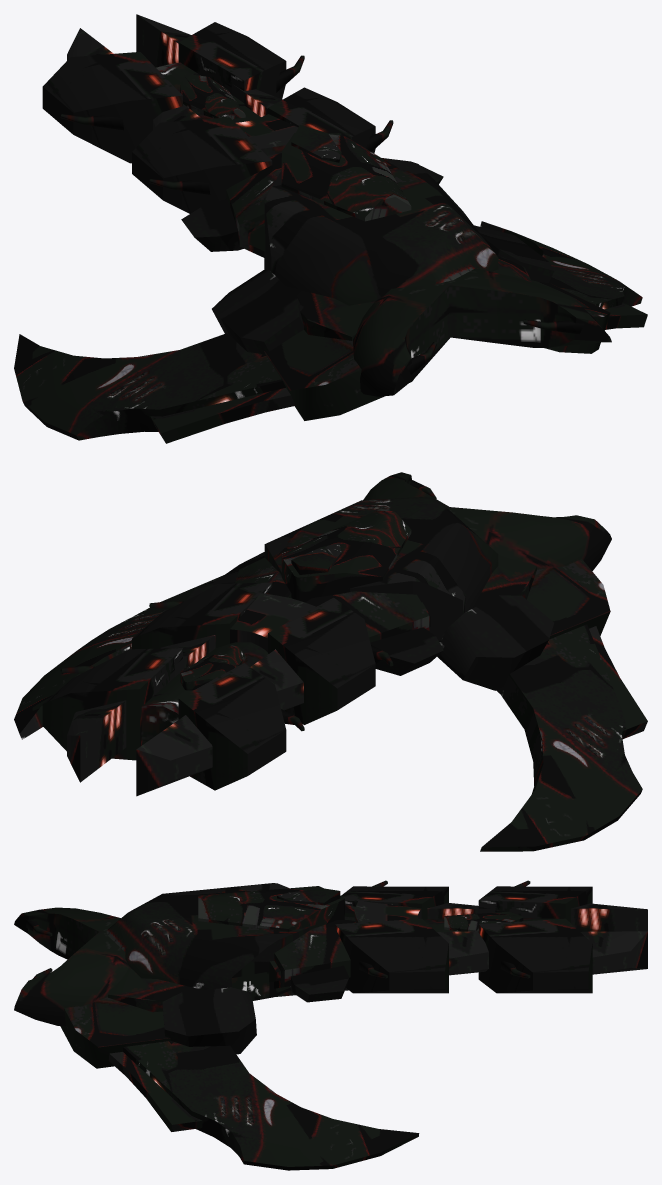
File: Funnelweb.fbx
The picture shows the model from 3 angles, top to bottom: view 1: azimuth 30°, elevation 25°; view 2: azimuth 150°, elevation 25°; view 3: azimuth 270°, elevation 25°; orthographic projection. The views are drawn at different scales.
Visible parts, largest first — view 1: 00_Core, 02_WingRight, 01_WingLeft, 05_FrontRight, 06_FrontRight1, 03_FrontLeft, 04_FrontLeft1; view 2: 00_Core, 02_WingRight, 05_FrontRight, 03_FrontLeft, 06_FrontRight1, 04_FrontLeft1, 01_WingLeft; view 3: 01_WingLeft, 00_Core, 03_FrontLeft, 04_FrontLeft1, 05_FrontRight, 06_FrontRight1.
Part boxes in pixels (<box>): 00_Core: <box>181,125,498,420</box>; 02_WingRight: <box>14,333,295,443</box>; 01_WingLeft: <box>446,221,647,353</box>; 05_FrontRight: <box>42,28,245,163</box>; 06_FrontRight1: <box>132,104,272,213</box>; 03_FrontLeft: <box>136,14,304,116</box>; 04_FrontLeft1: <box>197,87,393,155</box>; 00_Core: <box>186,497,611,690</box>; 02_WingRight: <box>480,624,647,851</box>; 05_FrontRight: <box>136,645,304,796</box>; 03_FrontLeft: <box>42,635,215,782</box>; 06_FrontRight1: <box>250,597,393,724</box>; 04_FrontLeft1: <box>132,582,315,666</box>; 01_WingLeft: <box>14,472,449,739</box>; 01_WingLeft: <box>14,931,419,1170</box>; 00_Core: <box>14,883,355,1002</box>; 03_FrontLeft: <box>437,918,647,993</box>; 04_FrontLeft1: <box>335,900,458,993</box>; 05_FrontRight: <box>444,880,647,931</box>; 06_FrontRight1: <box>341,880,495,919</box>.
Size of the model in its own units: 22250 by 7749 by 26439.
Materials: 1 (1 with a texture image).
